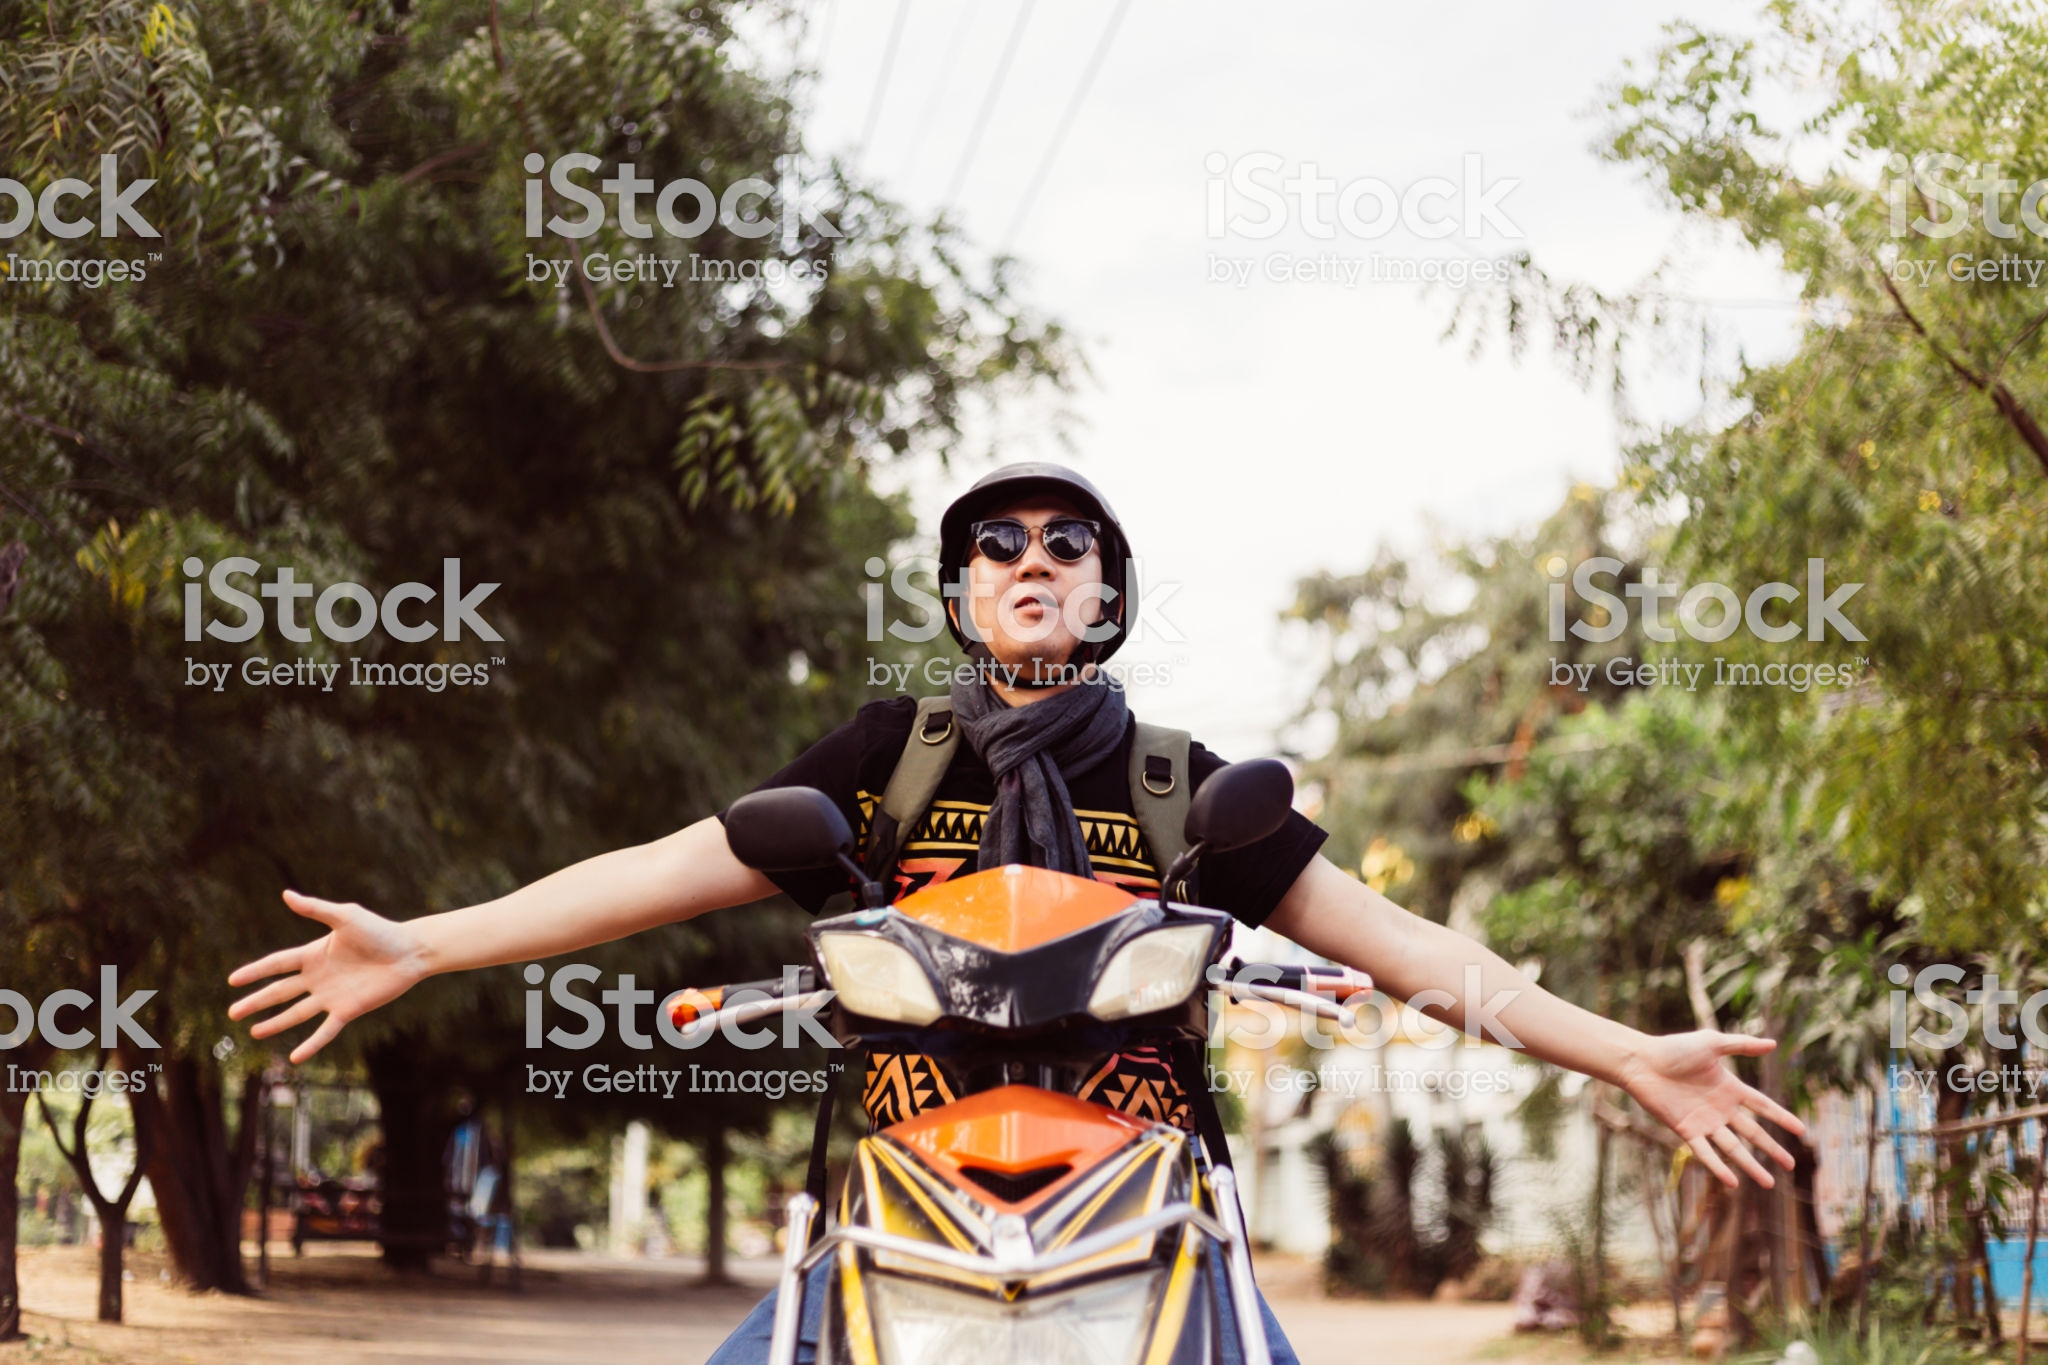helmet: (929, 446, 1137, 579)
